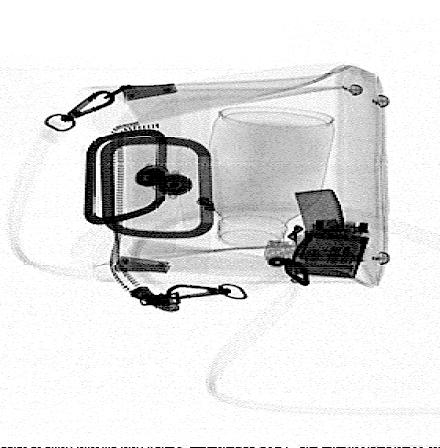Lighter: (262, 188, 370, 279)
